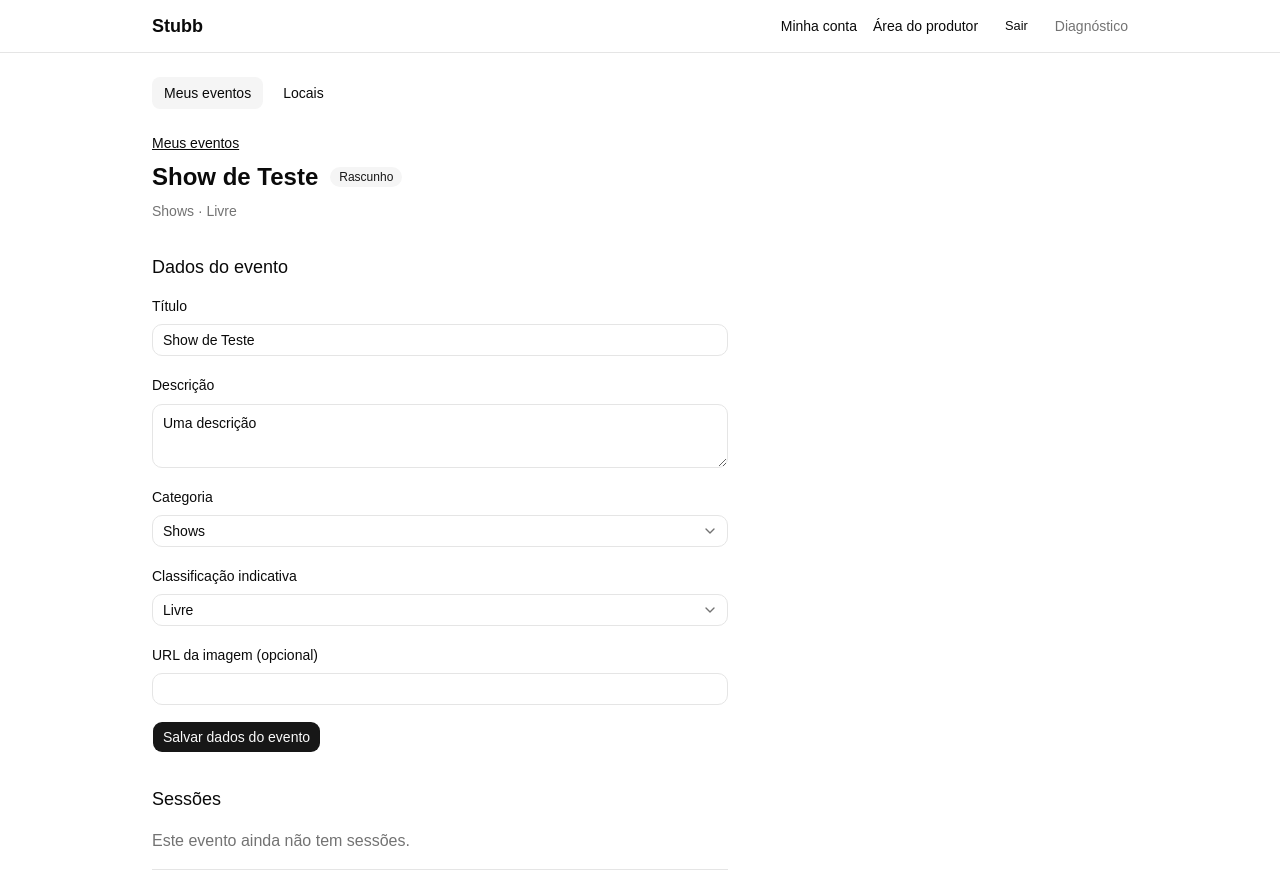
Test: gestão do evento › 409 ao salvar os dados do evento recarrega e reabre o formulário com os dados novos
The width and height of the screenshot is (1280, 890).
Check: the heading "Show de Teste" is shown, box [152,161,318,193]
Replace the text in the field labelled "Título" with "Meu título": [440, 340] box [152,324,728,356]
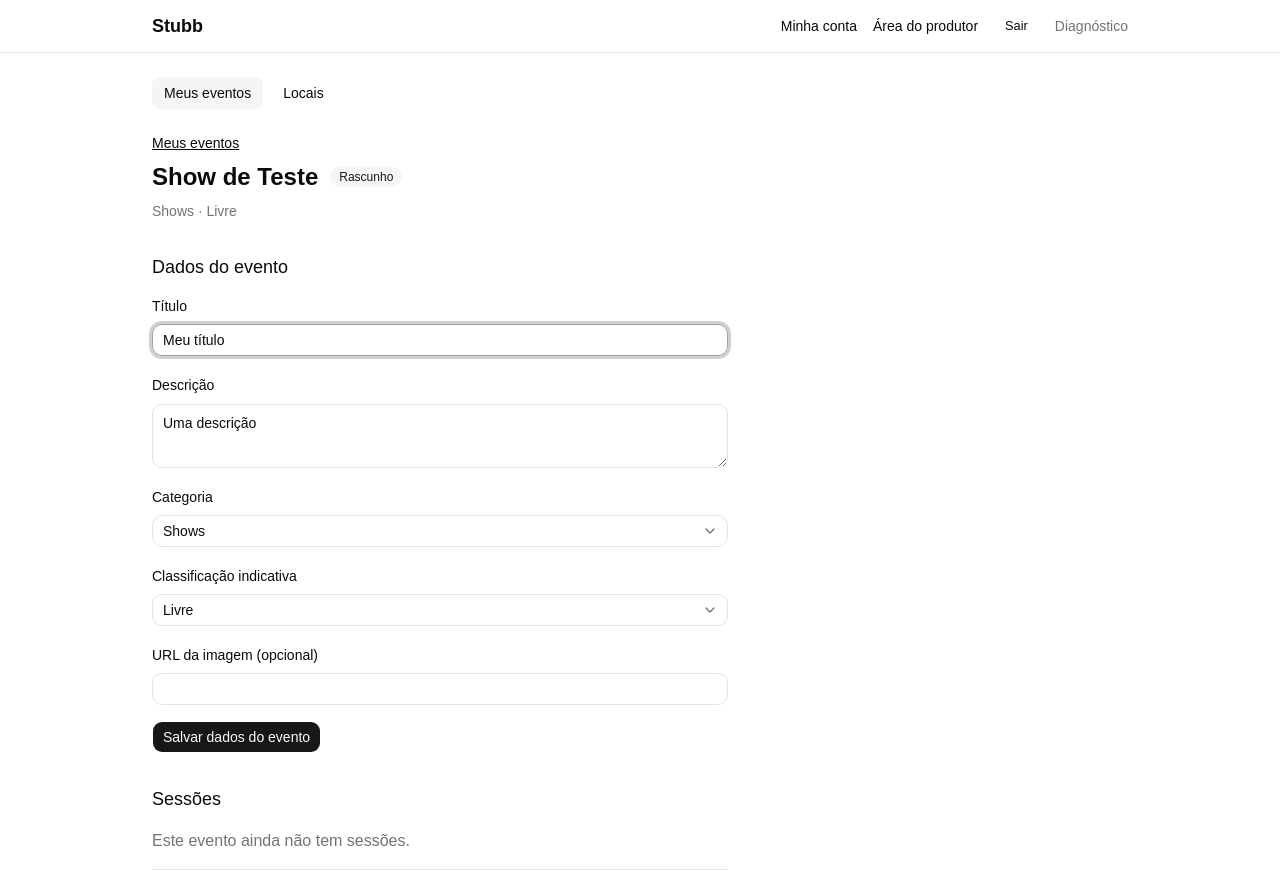
Click the button "Salvar dados do evento": [237, 737] box [152,721,321,753]
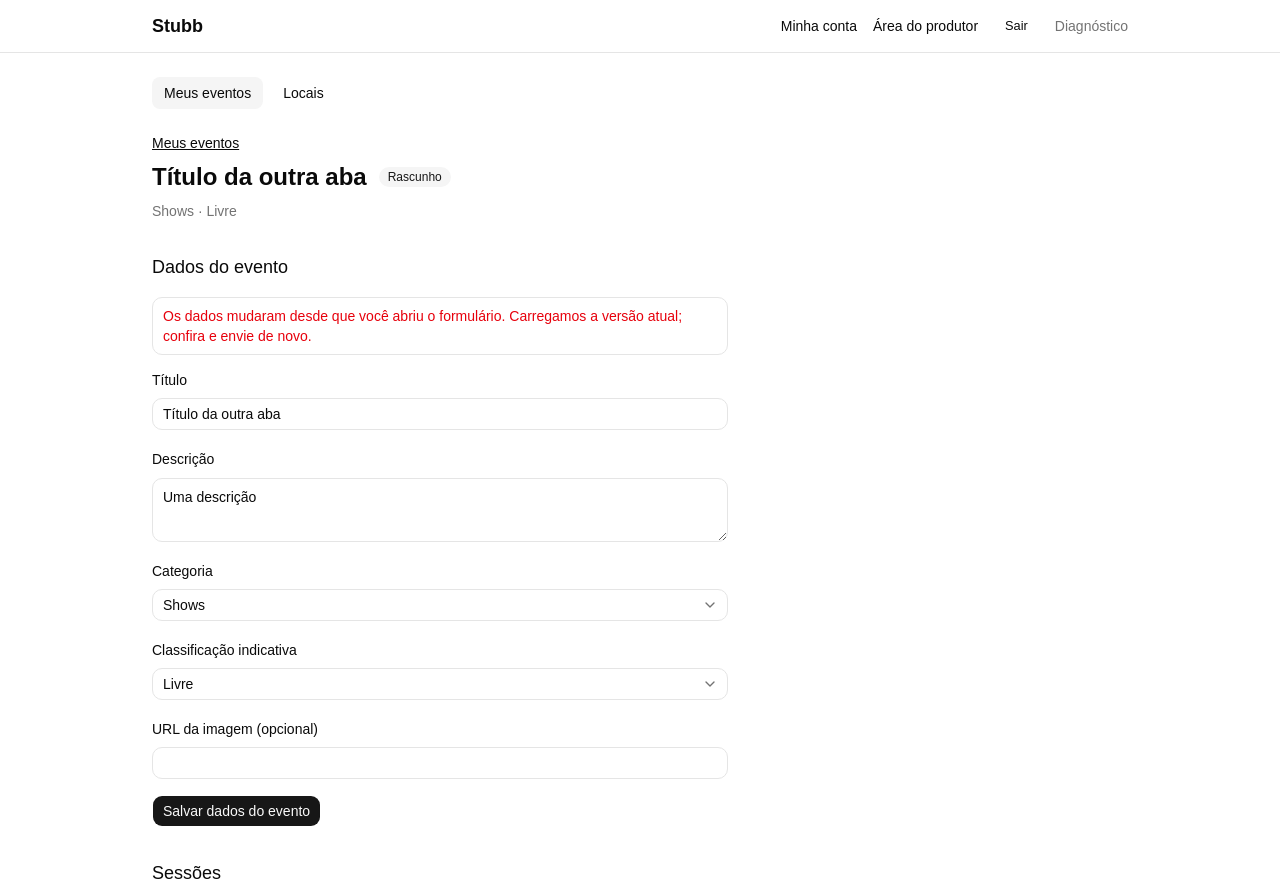
Check: the text "Os dados mudaram desde que você abriu o formulário" is shown, box [163,308,682,344]
Check: the field labelled "Título" holds "Título da outra aba", box [152,398,728,430]
